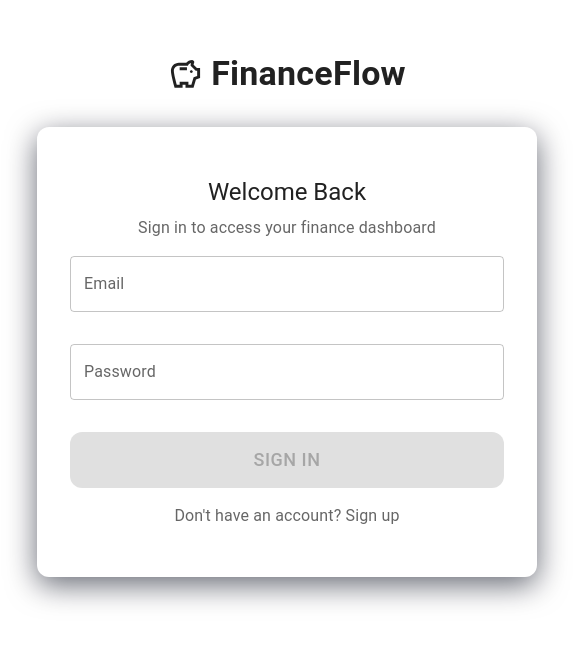
AuthComponent › Form Rendering › can toggle to signup form
What coordinates should you click on to do the following:
click the text "Don't have an account? Sign up"
I would click on:
 (287, 515)
Its box is [174,506,400,525].
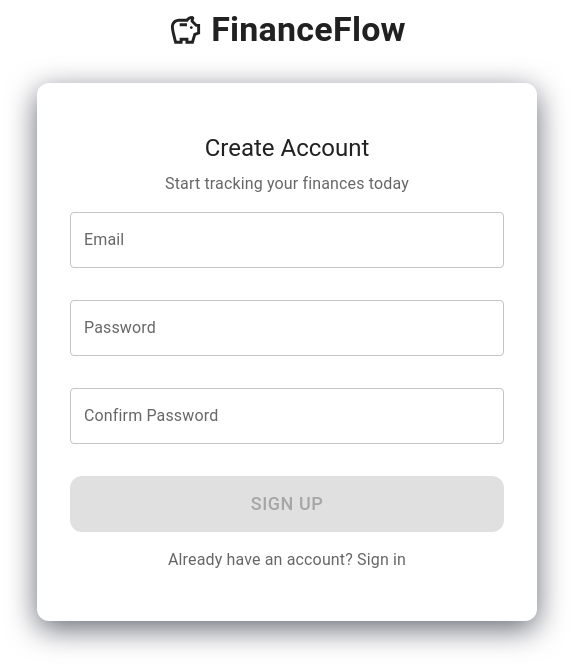
Now the heading "Create Account" is shown, box [205,134,369,162]
Now the password field labelled "Confirm Password" is shown, box [70,388,504,444]
Now the button "Sign Up" is shown, box [70,476,504,532]
